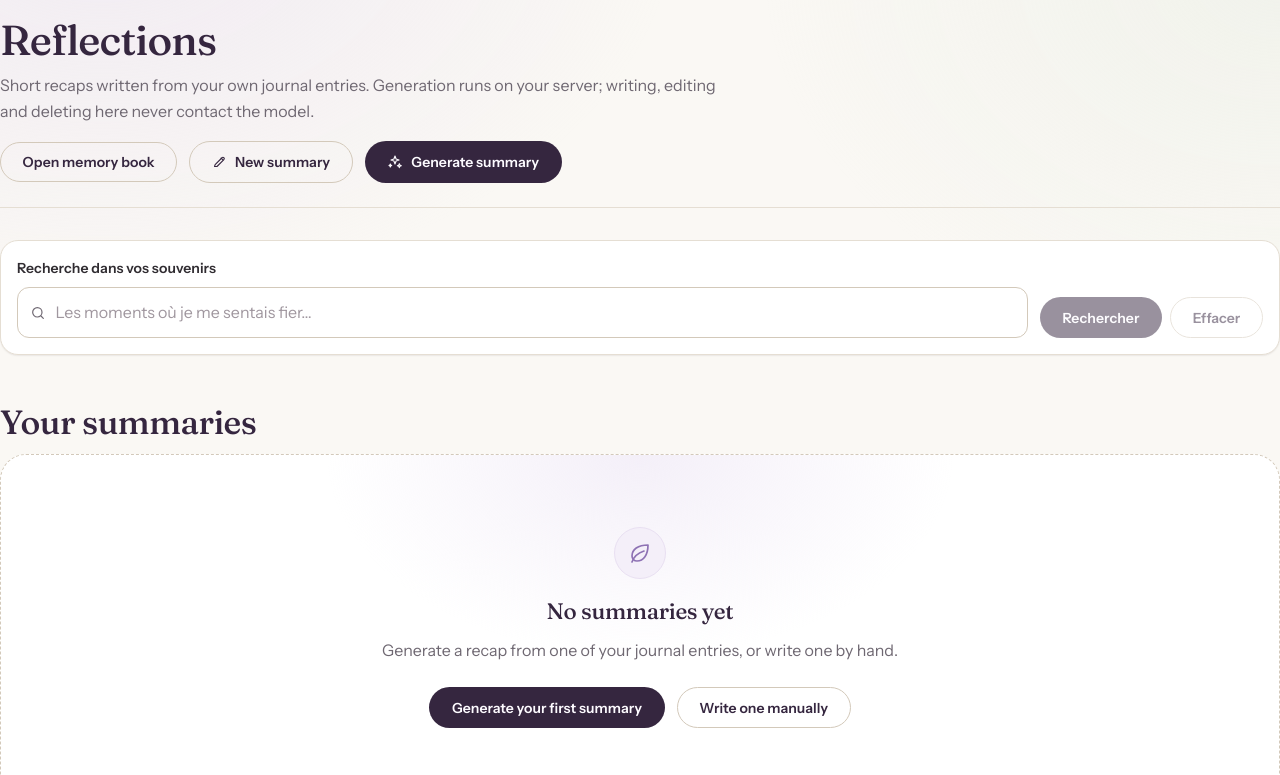
SummariesPage › generates a summary by sending only the real journal entry ID
The image size is (1280, 775).
Check: the heading "No summaries yet" is shown, box [547,599,733,625]
Click the button "Generate summary" at (463, 162), box [365,140,562,183]
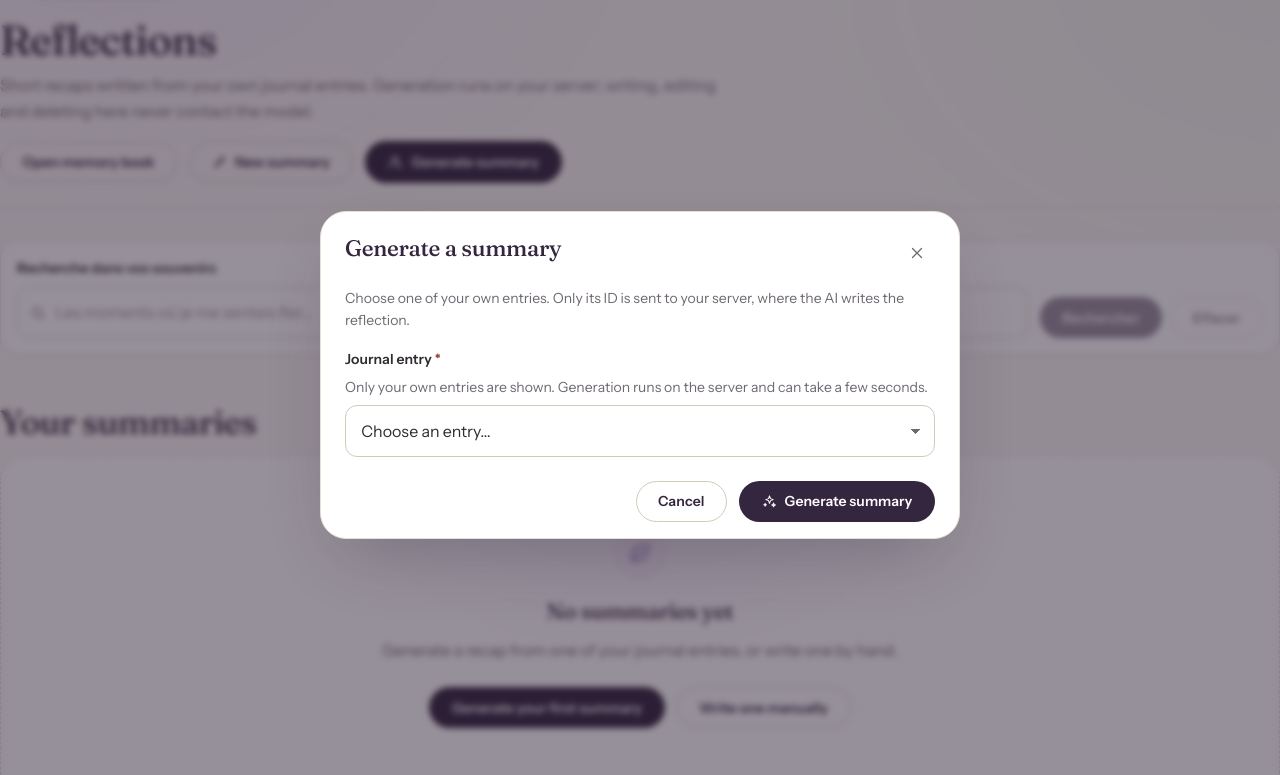
Select "Project stand-up — Oct 21, 2026, 9:30 AM" in the dropdown labelled "Journal entry *" at (640, 431), box [345,405,935,456]
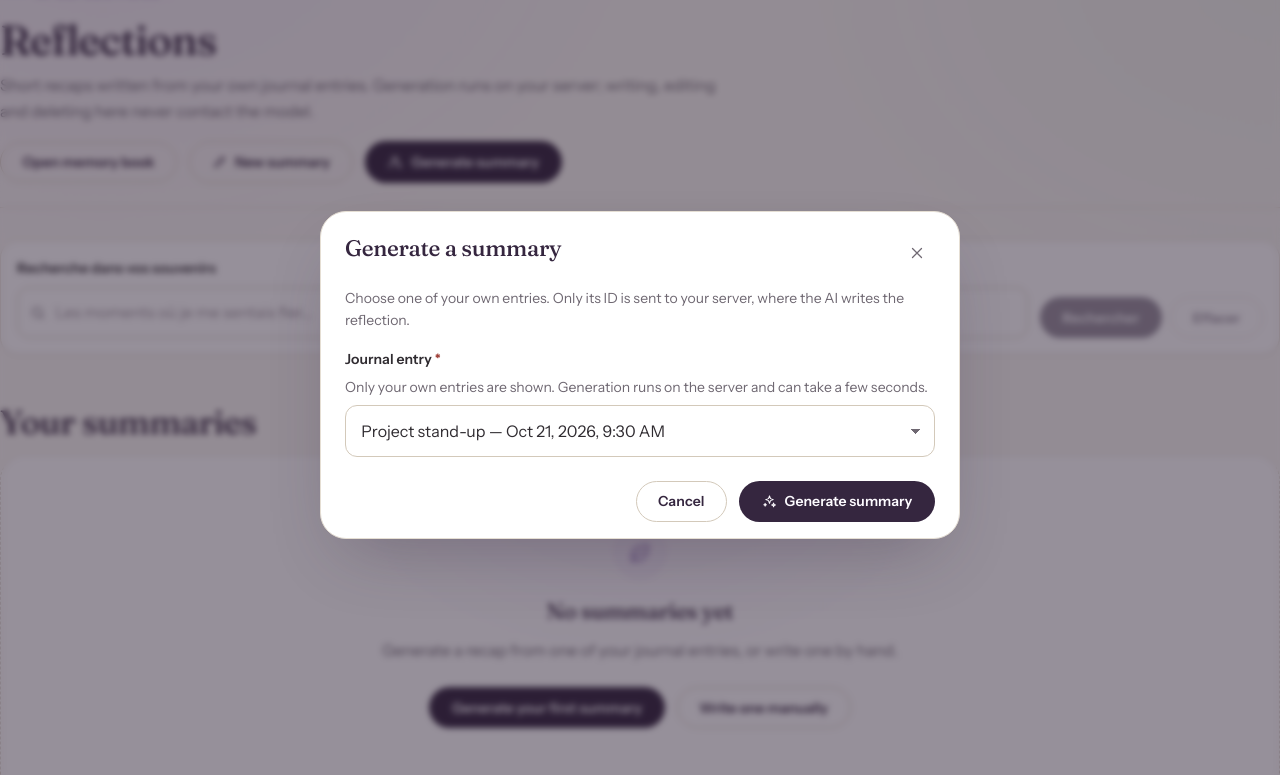
Click the button "Generate summary" at (837, 501), box [739,480,935,522]
(page scrolled)
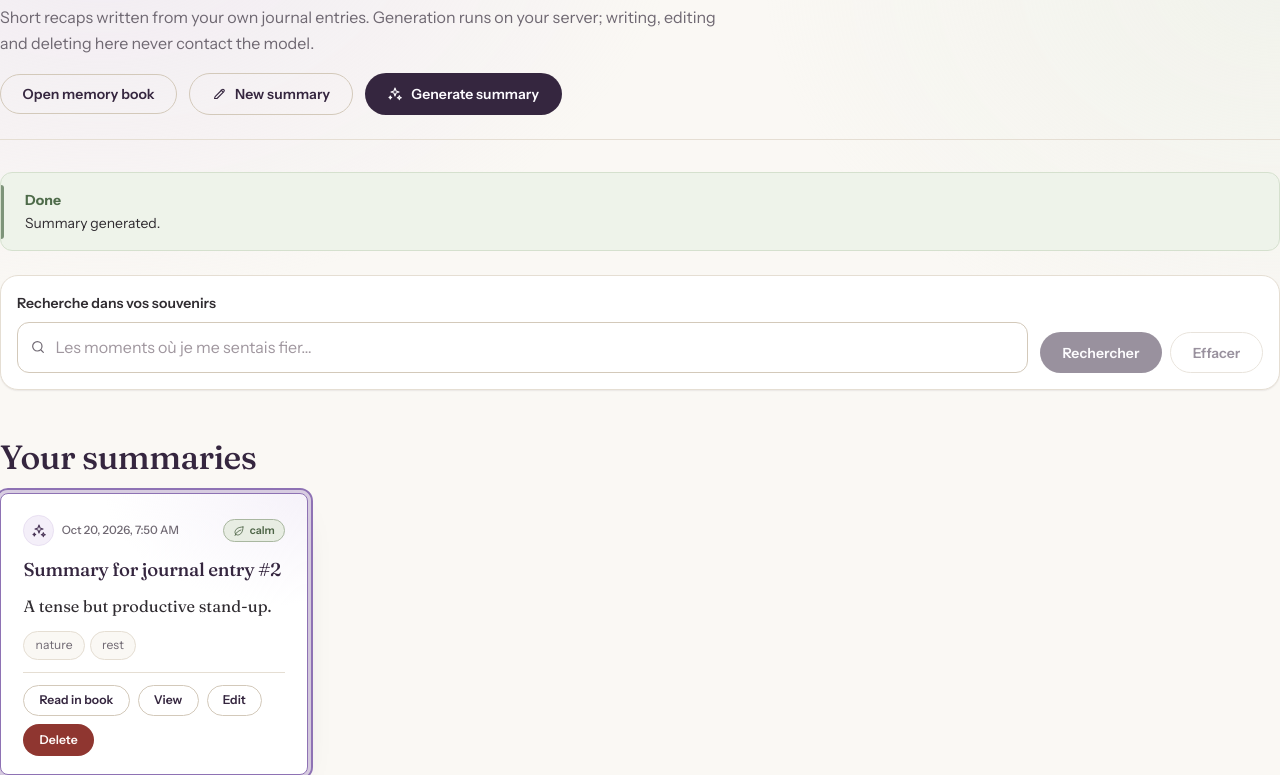
Check: the text "Summary generated." is shown, box [25,214,160,232]
Check: the text "A tense but productive stand-up." is shown, box [23,594,285,619]
